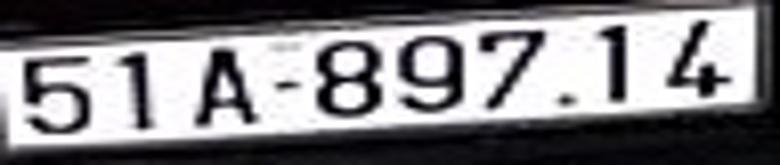-: (274, 80, 298, 89)
.: (561, 93, 572, 104)
1: (118, 53, 154, 129), (599, 25, 628, 103)
4: (666, 19, 729, 96)
5: (24, 56, 90, 135)
7: (479, 30, 548, 107)
8: (318, 40, 381, 115)
9: (399, 37, 464, 111)
A: (196, 48, 258, 125)
